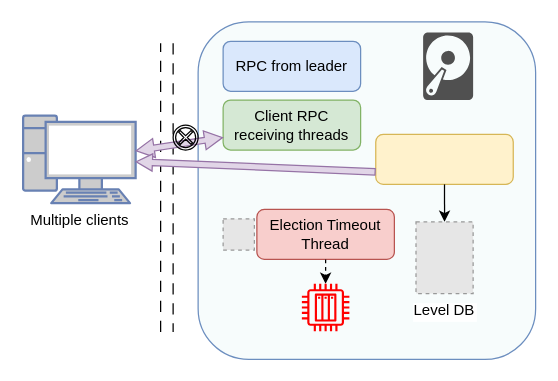
This 558x381 diagram has some shape labels left out. Grey dashed boxes stand in for pictures. The shapes that lost their labels are listed below. From the top down, each one's centre as x and y in pixels, then its label:
At point (447, 65): "Persistent Storage".
At point (443, 158): "LevelDB Sync Thread".
At point (325, 307): "State Controller".
